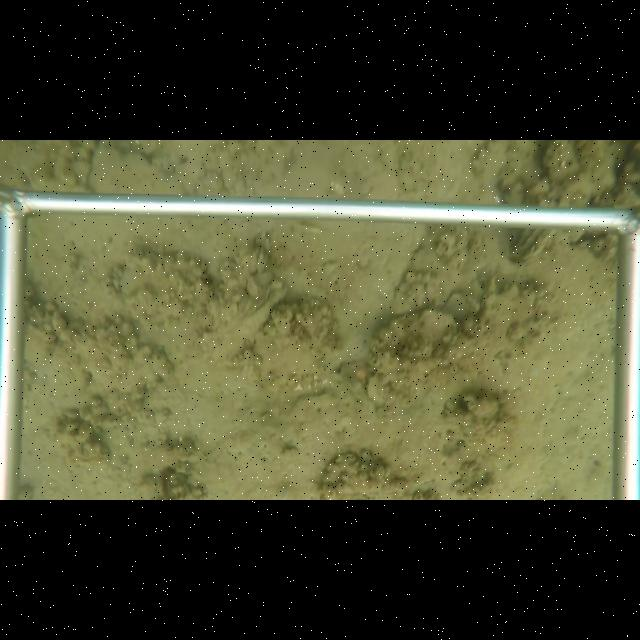Oyster-Closed: (210, 283, 288, 361), (83, 147, 189, 196), (363, 370, 389, 407)
Oyster-Open: (507, 229, 545, 261)
